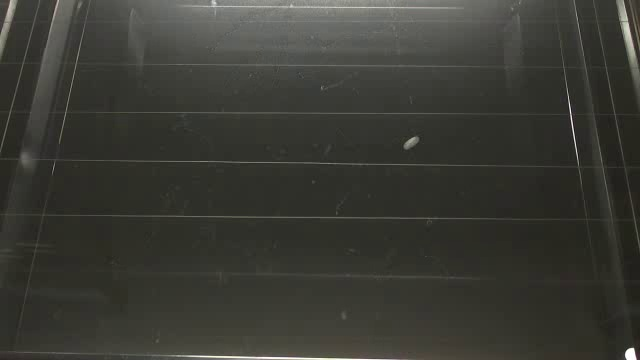Alfa: (401, 134, 422, 151)
